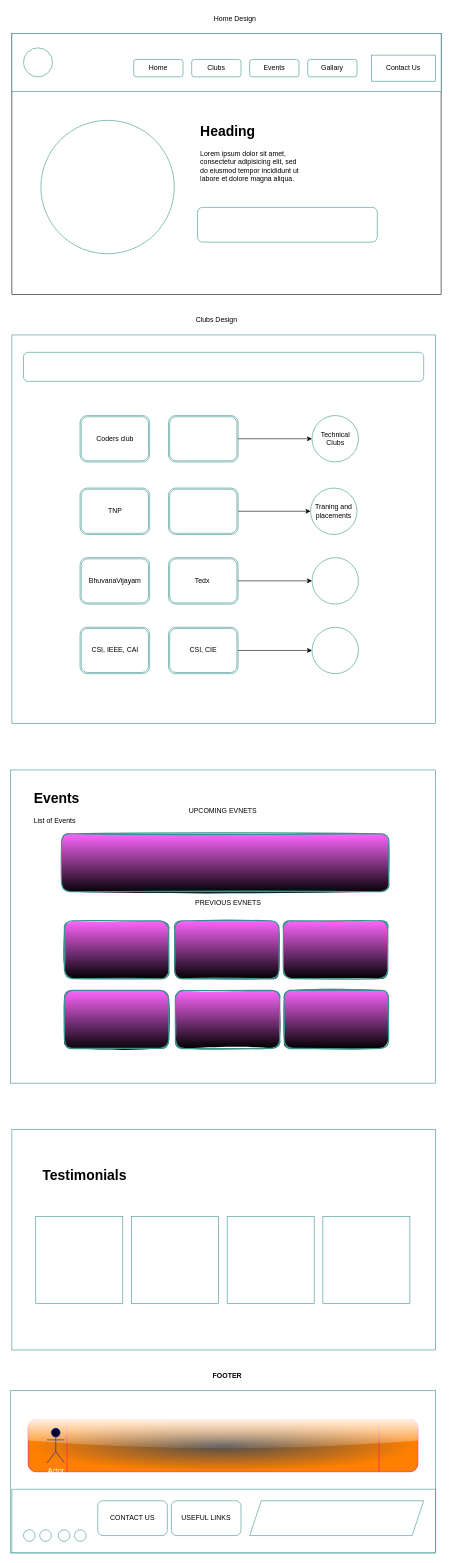
The diagram is 451 pixels wide and 1563 high, and some of its shapes have lost their labels. Each missing label, with the box of its shape:
Codechef Gprec: (168, 415, 238, 462)
English club: (168, 487, 238, 534)
FAQ'S: (249, 1500, 424, 1536)
Gprec logo: (40, 120, 174, 254)
Personal Skills Development Clubs: (311, 557, 358, 604)
Profile: (23, 47, 52, 77)
STILL STUCK AS GPT: (28, 1419, 418, 1472)
wy and what clubs: (23, 352, 424, 381)
